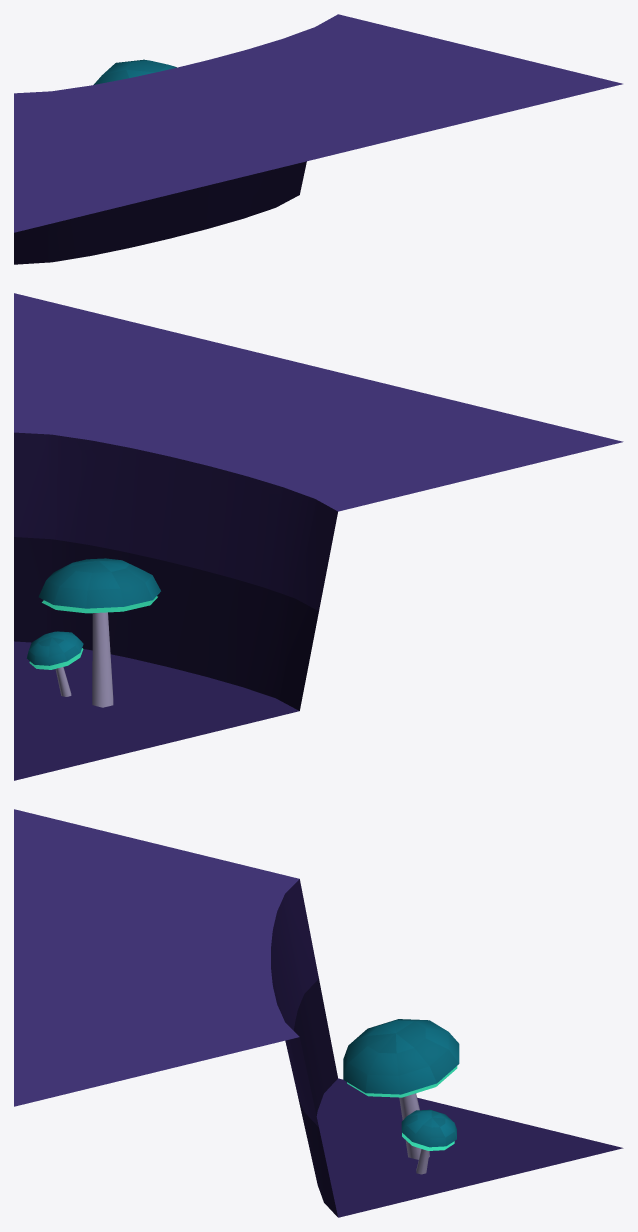
File: MODULE_ALIEN_CLIFF_SIDE_1_SHROOMS.fbx
3 renders of one model, top to bottom at view 1: azimuth 30°, elevation 25°; view 2: azimuth 150°, elevation 25°; view 3: azimuth 270°, elevation 25°, orthographic.
Parts seen in each view (by area): view 1: MODULE_ALIEN_CLIFF_SIDE_1_SHROOMS__export, MODULE_ALIEN_CLIFF_SIDE_1_SHROOMS_DECOR__export; view 2: MODULE_ALIEN_CLIFF_SIDE_1_SHROOMS__export, MODULE_ALIEN_CLIFF_SIDE_1_SHROOMS_DECOR__export; view 3: MODULE_ALIEN_CLIFF_SIDE_1_SHROOMS__export, MODULE_ALIEN_CLIFF_SIDE_1_SHROOMS_DECOR__export.
Part boxes in pixels (x1=…): MODULE_ALIEN_CLIFF_SIDE_1_SHROOMS__export: x1=14, y1=14, x2=622, y2=264; MODULE_ALIEN_CLIFF_SIDE_1_SHROOMS_DECOR__export: x1=93, y1=59, x2=176, y2=84; MODULE_ALIEN_CLIFF_SIDE_1_SHROOMS__export: x1=14, y1=293, x2=623, y2=780; MODULE_ALIEN_CLIFF_SIDE_1_SHROOMS_DECOR__export: x1=26, y1=558, x2=160, y2=707; MODULE_ALIEN_CLIFF_SIDE_1_SHROOMS__export: x1=14, y1=809, x2=623, y2=1217; MODULE_ALIEN_CLIFF_SIDE_1_SHROOMS_DECOR__export: x1=343, y1=1019, x2=459, y2=1174.
Size of the model in its own units: 100 by 30.73 by 86.6.
